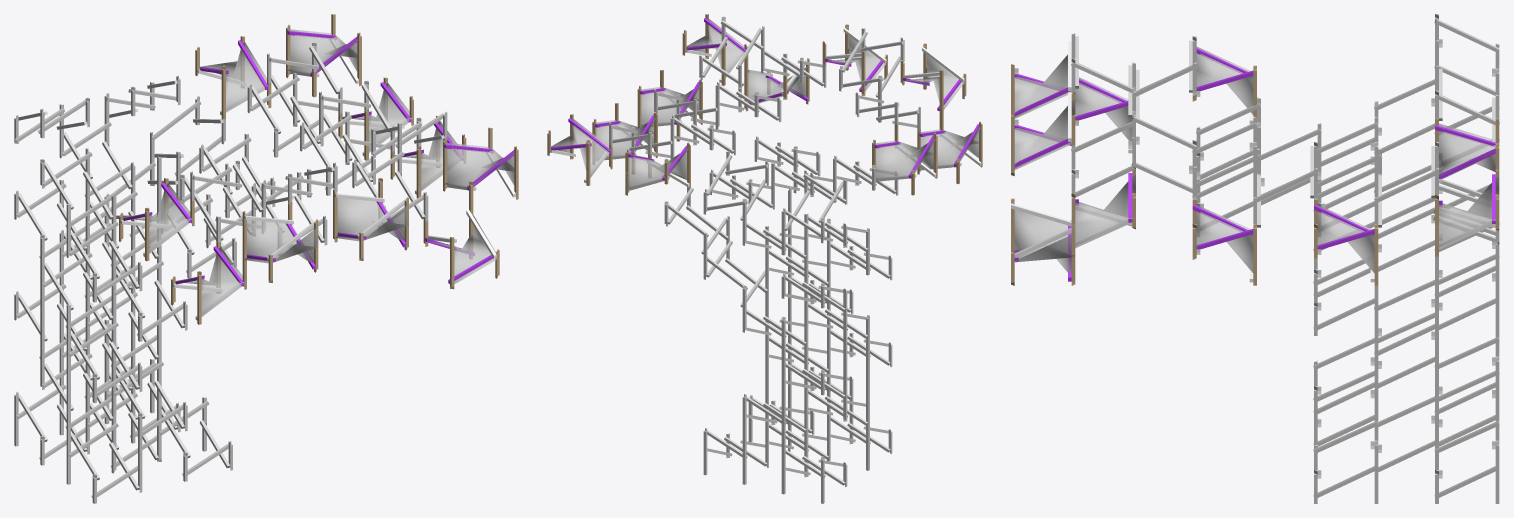
Rendered from final_model_dxb.fbx.
3 views of the same model, side by side, from view 1: azimuth 30°, elevation 25°; view 2: azimuth 150°, elevation 25°; view 3: azimuth 270°, elevation 25° (orthographic). The views are drawn at different scales.
Parts seen in each view (by area): view 1: srf, Layer 07, stick_v, stick 640, stick 660, blue, red, purple, extra stck one side, extra stick two sides, both2; view 2: srf, Layer 07, stick_v, stick 640, stick 660, blue, red, purple, extra stck one side, both2, extra stick two sides; view 3: srf, stick 660, Layer 07, stick_v, purple, stick 640, red, blue, extra stck one side.
Part boxes in pixels (bbox=[...]): srf: bbox=[121, 29, 515, 317]; Layer 07: bbox=[119, 14, 518, 324]; stick_v: bbox=[14, 42, 447, 503]; stick 640: bbox=[16, 58, 443, 497]; stick 660: bbox=[18, 46, 444, 490]; blue: bbox=[15, 99, 251, 467]; red: bbox=[14, 95, 255, 473]; purple: bbox=[18, 100, 252, 459]; extra stck one side: bbox=[40, 156, 161, 411]; extra stick two sides: bbox=[14, 384, 206, 484]; both2: bbox=[59, 184, 142, 467]; srf: bbox=[551, 19, 980, 189]; Layer 07: bbox=[547, 14, 982, 195]; stick_v: bbox=[609, 16, 920, 486]; stick 640: bbox=[612, 20, 919, 485]; stick 660: bbox=[611, 28, 917, 475]; blue: bbox=[667, 165, 867, 459]; red: bbox=[664, 163, 869, 461]; purple: bbox=[668, 175, 866, 449]; extra stck one side: bbox=[765, 187, 869, 408]; both2: bbox=[742, 236, 853, 450]; extra stick two sides: bbox=[703, 369, 869, 503]; srf: bbox=[1011, 46, 1499, 273]; stick 660: bbox=[1071, 62, 1499, 497]; Layer 07: bbox=[1011, 41, 1499, 285]; stick_v: bbox=[1071, 33, 1499, 503]; purple: bbox=[1261, 19, 1499, 472]; stick 640: bbox=[1075, 36, 1497, 478]; red: bbox=[1317, 14, 1499, 445]; blue: bbox=[1261, 39, 1495, 452]; extra stck one side: bbox=[1374, 256, 1438, 416].
Bounding box in the file's own units: 4 × 4.56 × 4.57.
